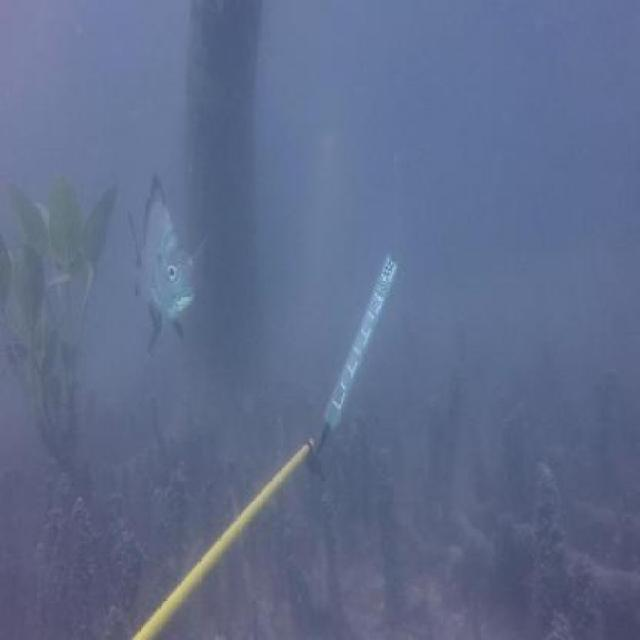acanthopagrus_palmaris: (128, 165, 198, 348)
